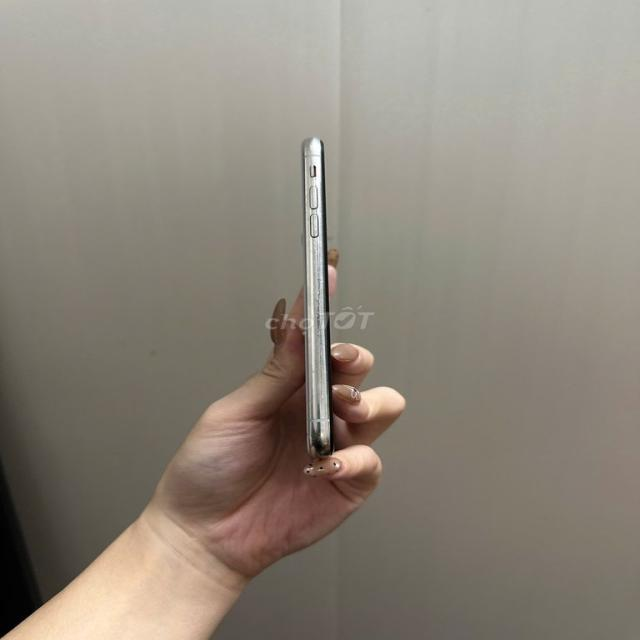scratch: (305, 240, 329, 450), (303, 214, 325, 238)
